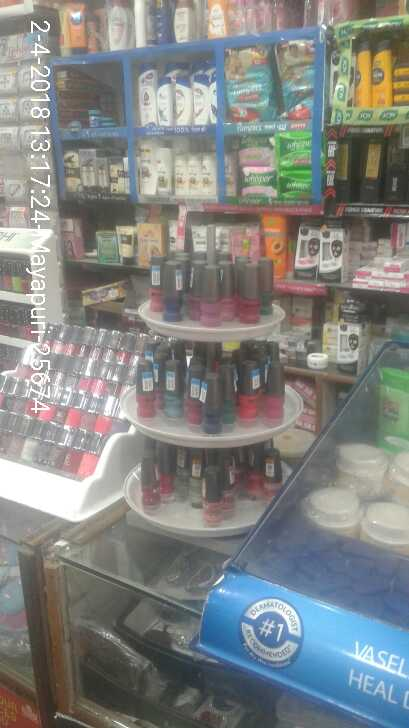vicks: (82, 101, 120, 133)
